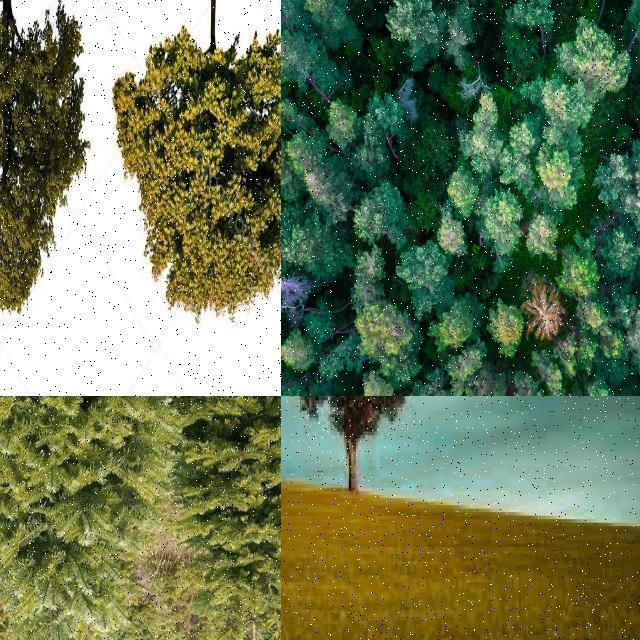tree: (113, 1, 281, 323), (0, 396, 188, 640), (0, 0, 100, 344), (171, 396, 281, 640), (0, 396, 76, 640), (294, 396, 406, 498), (0, 396, 48, 552), (350, 254, 414, 360), (555, 16, 625, 96), (289, 134, 351, 222), (280, 208, 348, 280), (530, 72, 598, 136), (288, 0, 358, 60), (458, 88, 504, 175), (282, 29, 334, 105), (398, 240, 447, 316), (504, 0, 554, 74), (542, 0, 598, 66), (363, 86, 405, 166), (499, 111, 536, 200), (444, 2, 484, 78), (520, 273, 562, 345), (384, 0, 436, 56), (354, 186, 404, 244), (482, 190, 522, 262), (430, 294, 478, 351), (449, 348, 506, 396), (598, 0, 640, 64), (538, 144, 578, 210), (559, 240, 597, 308), (526, 207, 562, 269), (488, 300, 524, 360), (447, 166, 485, 218), (455, 1, 505, 40), (361, 358, 409, 396), (437, 207, 469, 261), (328, 98, 362, 148), (308, 296, 344, 342), (420, 0, 464, 36), (281, 330, 315, 374), (280, 134, 304, 196), (280, 0, 316, 36), (512, 362, 548, 396), (280, 1, 308, 36), (281, 1, 305, 36), (489, 0, 529, 16), (281, 0, 299, 26)
